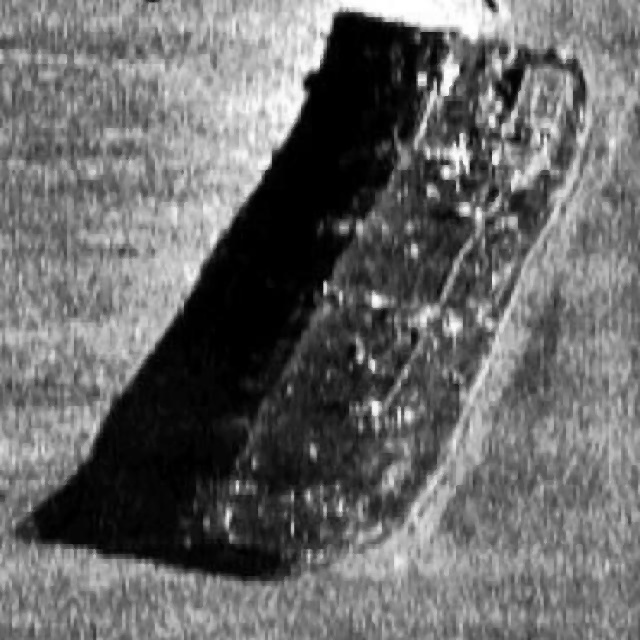Ship: (175, 19, 597, 586)
